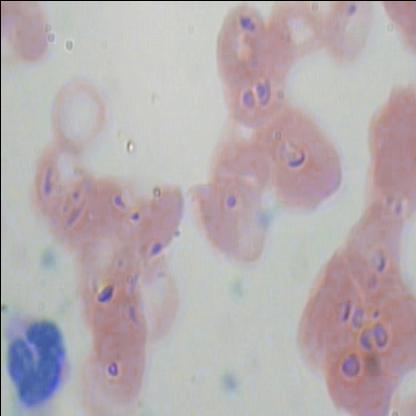Platelets: (213, 365, 245, 401)
RBC: (191, 175, 271, 269), (265, 122, 345, 216), (334, 210, 405, 304), (296, 284, 368, 376), (352, 288, 416, 380), (90, 316, 148, 412), (327, 340, 401, 415), (46, 72, 107, 160), (212, 3, 272, 88), (322, 0, 386, 70), (264, 0, 328, 70), (364, 138, 415, 224), (1, 1, 55, 71)
WBC: (1, 290, 78, 415)
